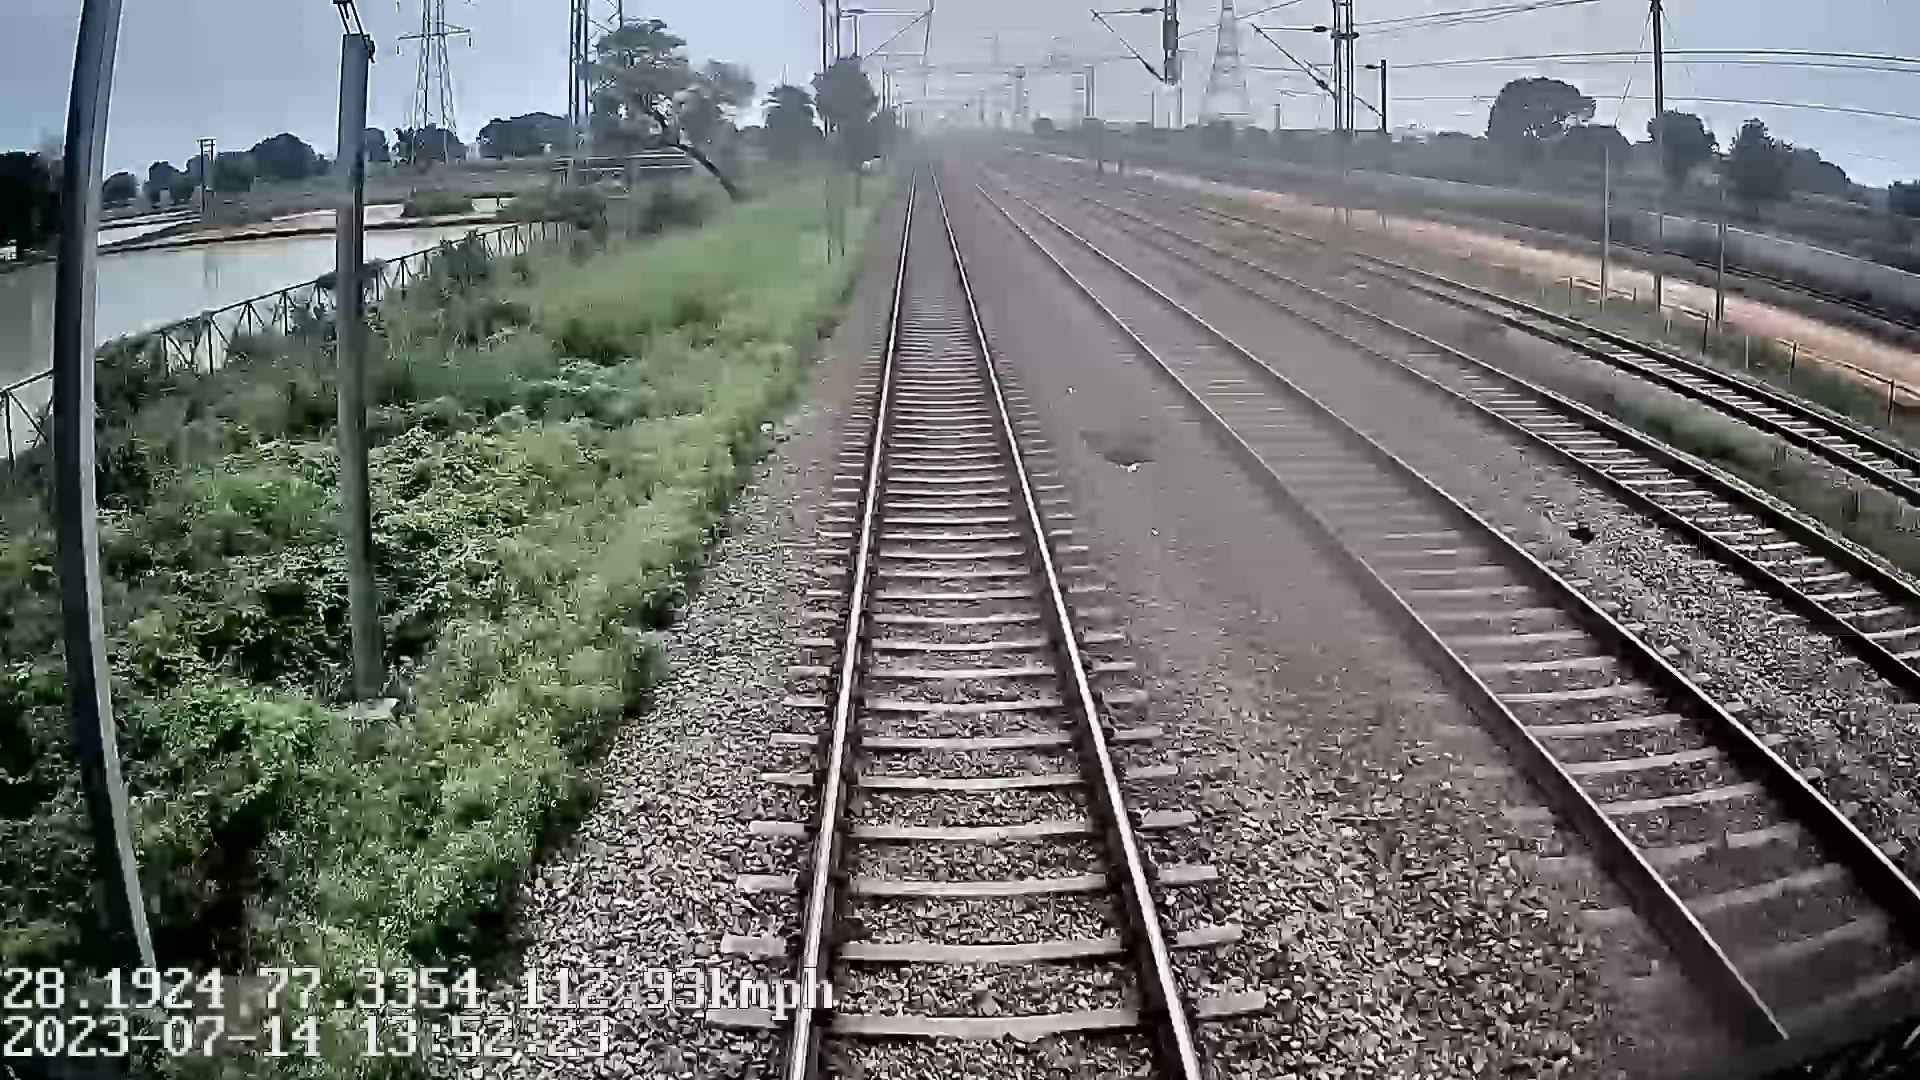track1: (799, 178, 1187, 1058)
track2: (977, 184, 1918, 1030)
track3: (1133, 226, 1919, 653)
track4: (1358, 256, 1919, 488)
